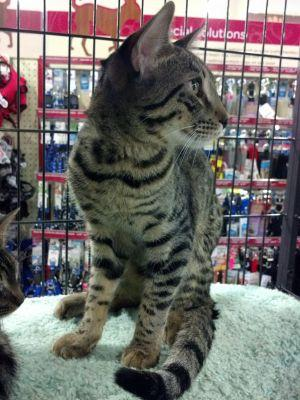bengal: (109, 1, 236, 163)
